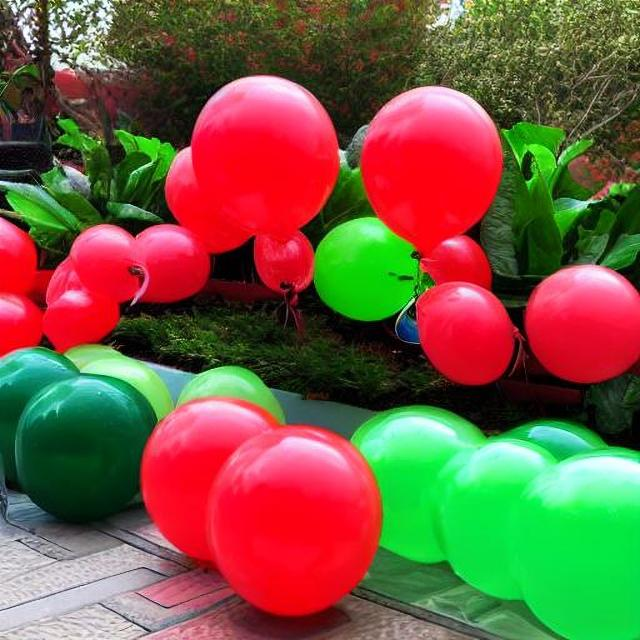balloon: (5, 218, 638, 636), (372, 82, 507, 253), (184, 84, 348, 224)
